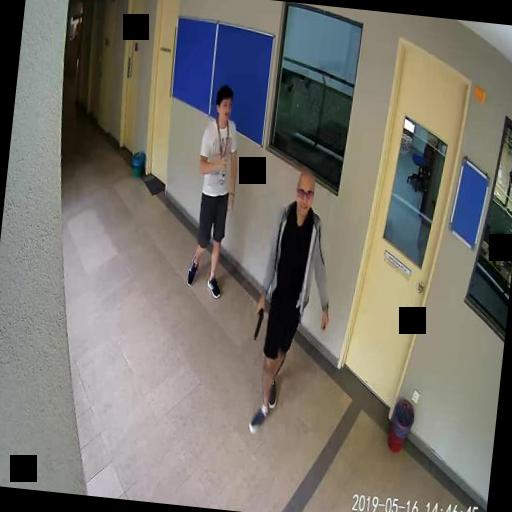Handgun: (252, 300, 264, 339)
